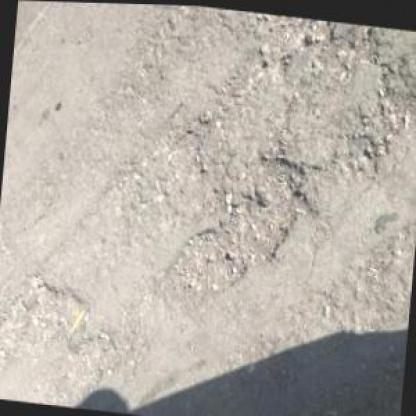pothole: (223, 142, 318, 273), (159, 215, 247, 312), (60, 325, 124, 395)
